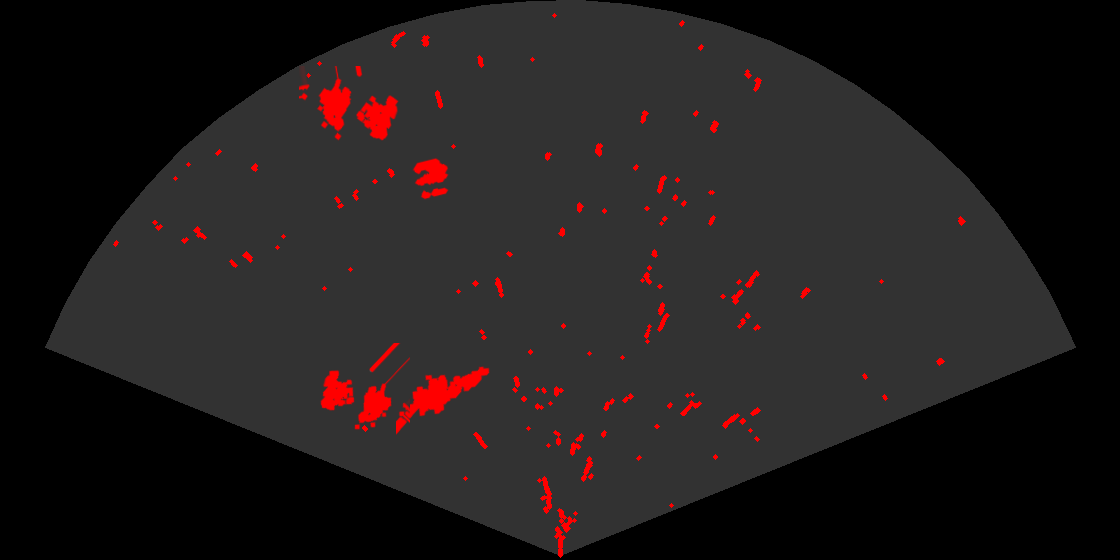ball: (411, 156, 450, 201)
cage: (319, 343, 410, 431), (299, 66, 400, 142)
frogman: (396, 365, 491, 436)
